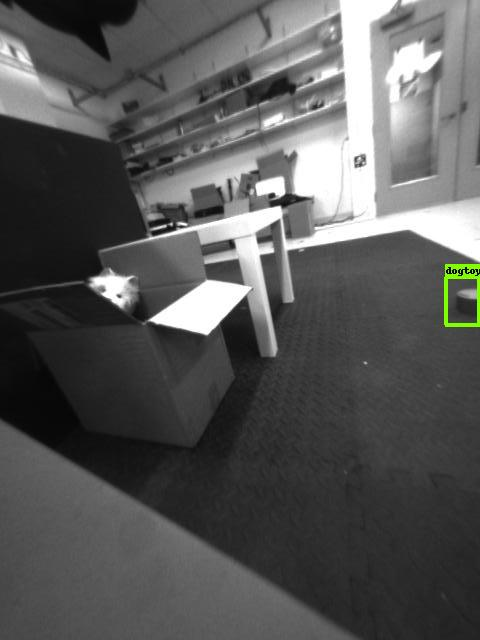dogtoy: (451, 285, 480, 318)
